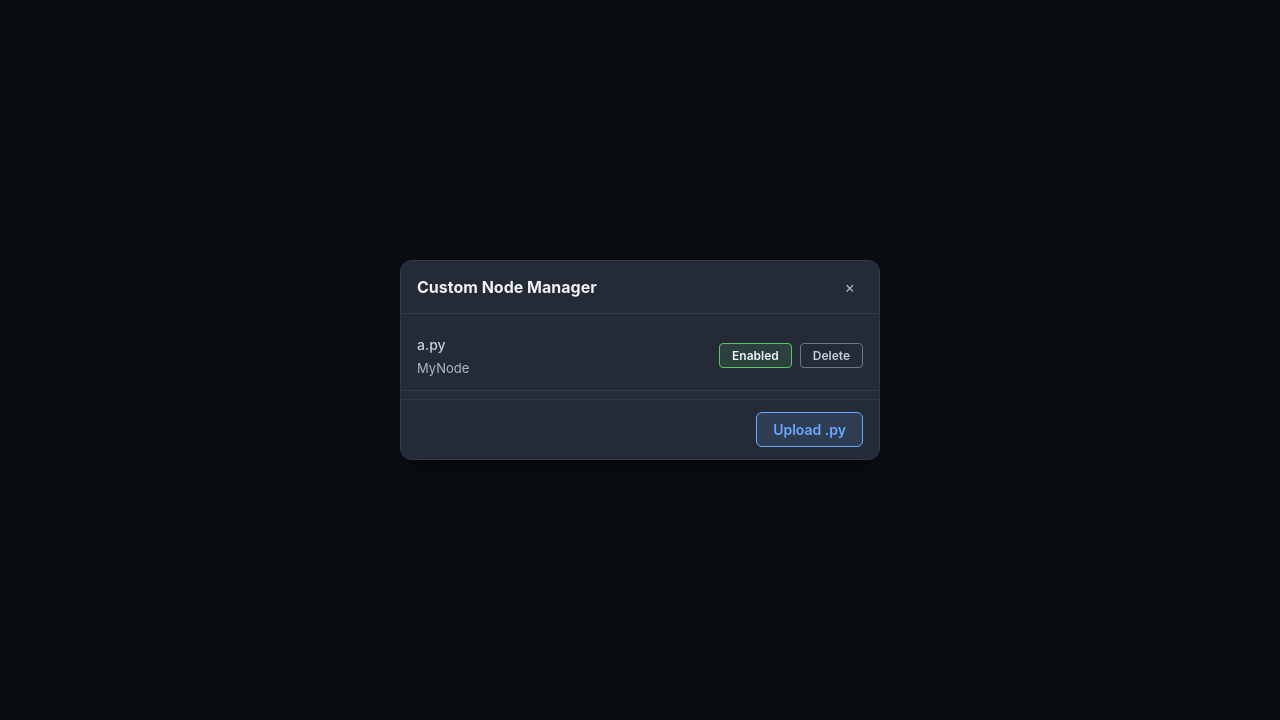
Scenario: CustomNodeManager › surfaces an error when toggle fails
This screenshot has width=1280, height=720.
Click the button "Enabled": (755, 356) [719,344,792,368]
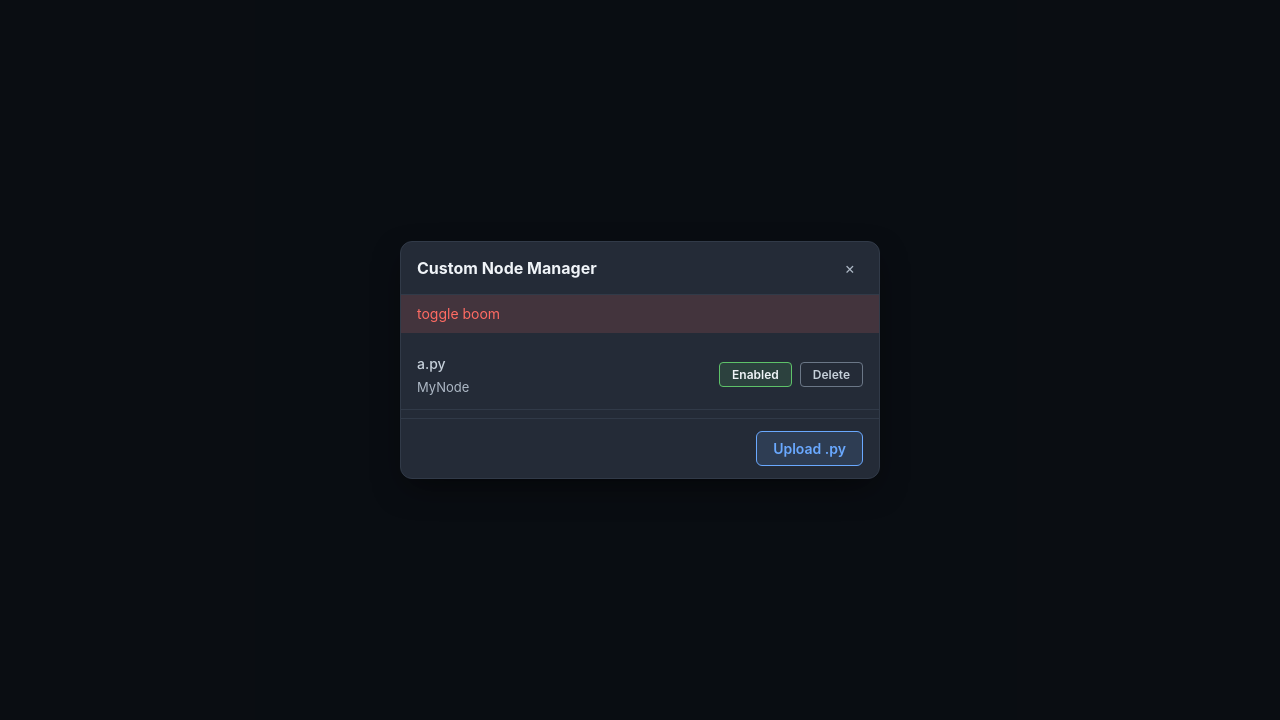
Result: the text "toggle boom" is shown at [401,295,879,333]
